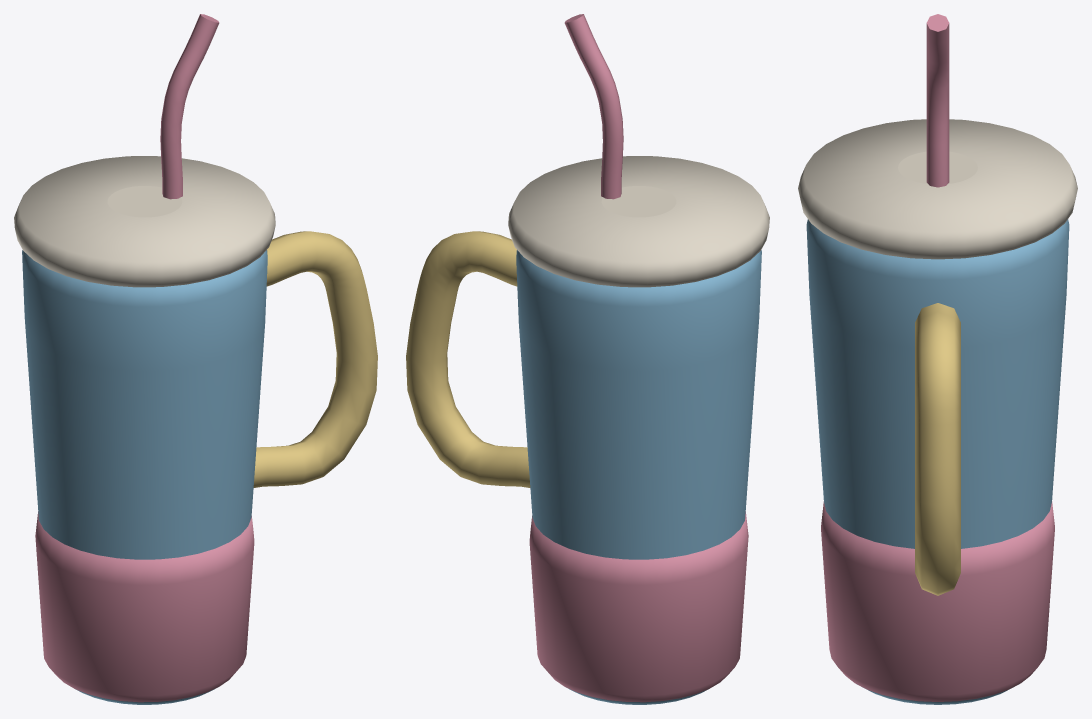
File: lm_tumbler.glb
3 views of the same model, side by side, from view 1: azimuth 30°, elevation 25°; view 2: azimuth 150°, elevation 25°; view 3: azimuth 270°, elevation 25° (orthographic). The views are drawn at different scales.
Visible parts, largest first — view 1: prop; view 2: prop; view 3: prop.
Boxes of the visible parts, box(x1,y1,x2,y2) form: prop: box(14, 14, 377, 704); prop: box(406, 14, 769, 704); prop: box(798, 14, 1077, 704).
Bounding box in the file's own units: 0.1486 × 0.2638 × 0.098.
